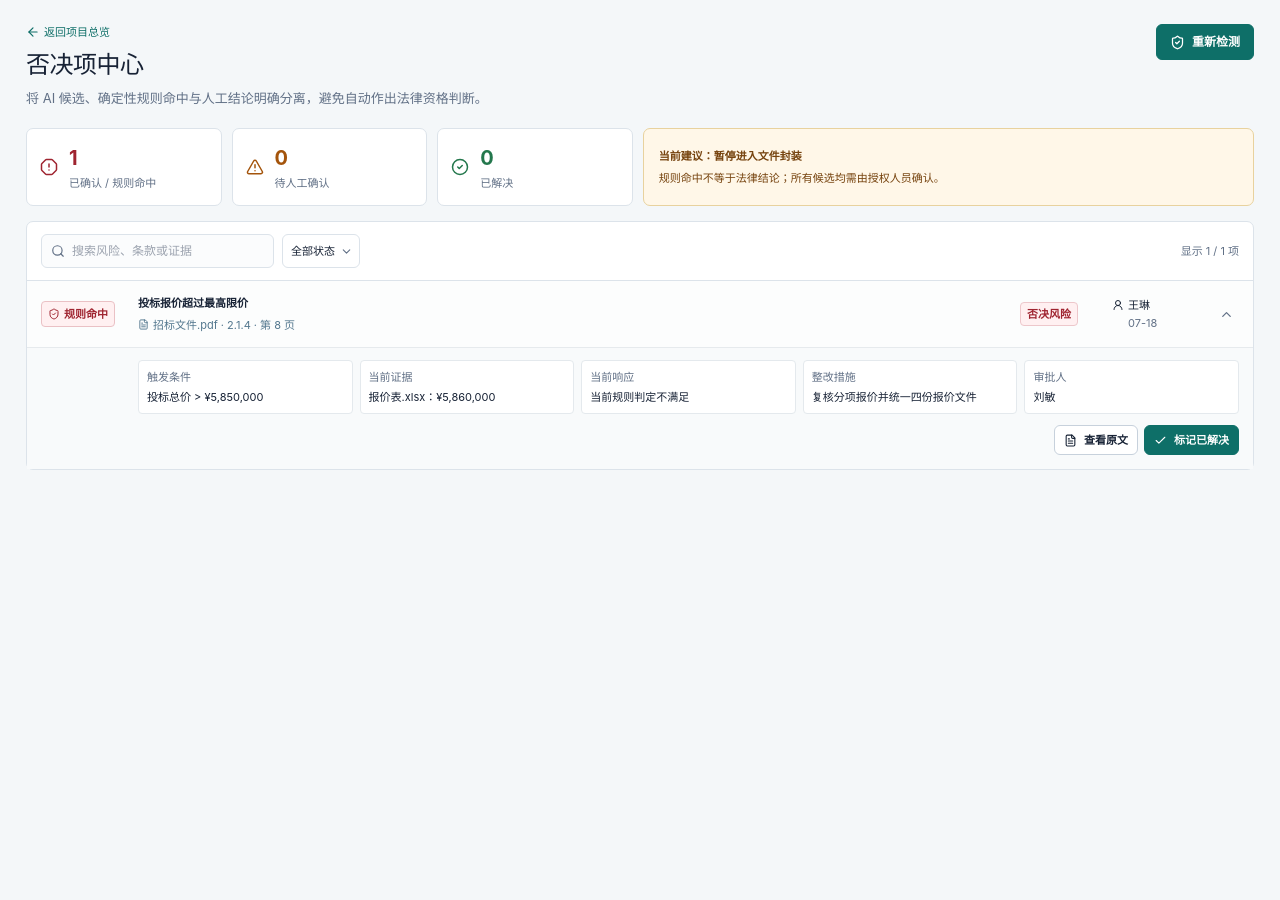
Test case: Phase 3-5 workbenches › requires an audited reason before recording a disqualification decision
The width and height of the screenshot is (1280, 900).
Step 1. Click the button "标记已解决" → click(1192, 440), box [1144,425,1239,455]
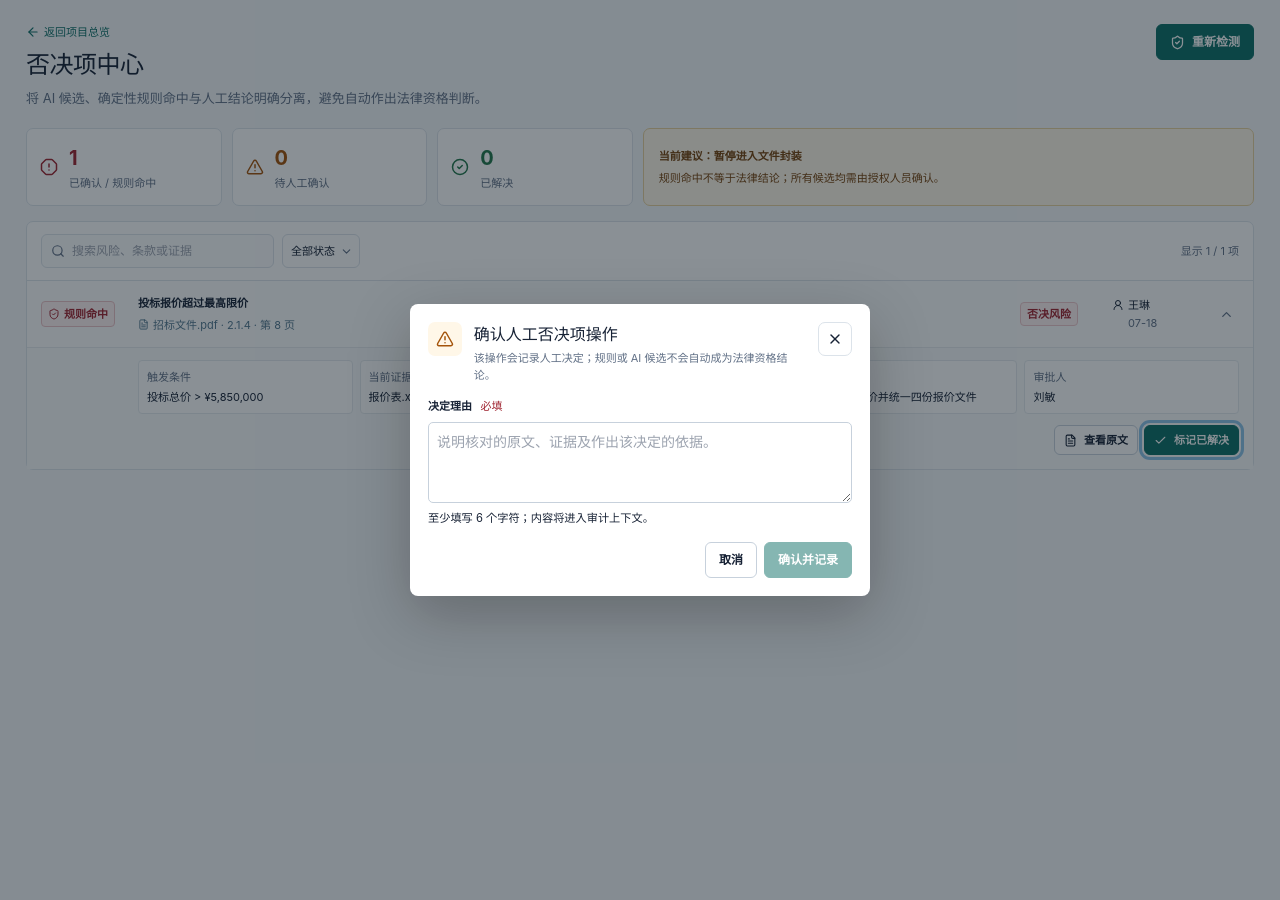
Expected: the button "确认并记录" is disabled, [764,542,852,578]
Step 2. Type "已核对整改材料及招标文件原文" into the text box labelled "决定理由" → (640, 462), box [428,422,852,503]
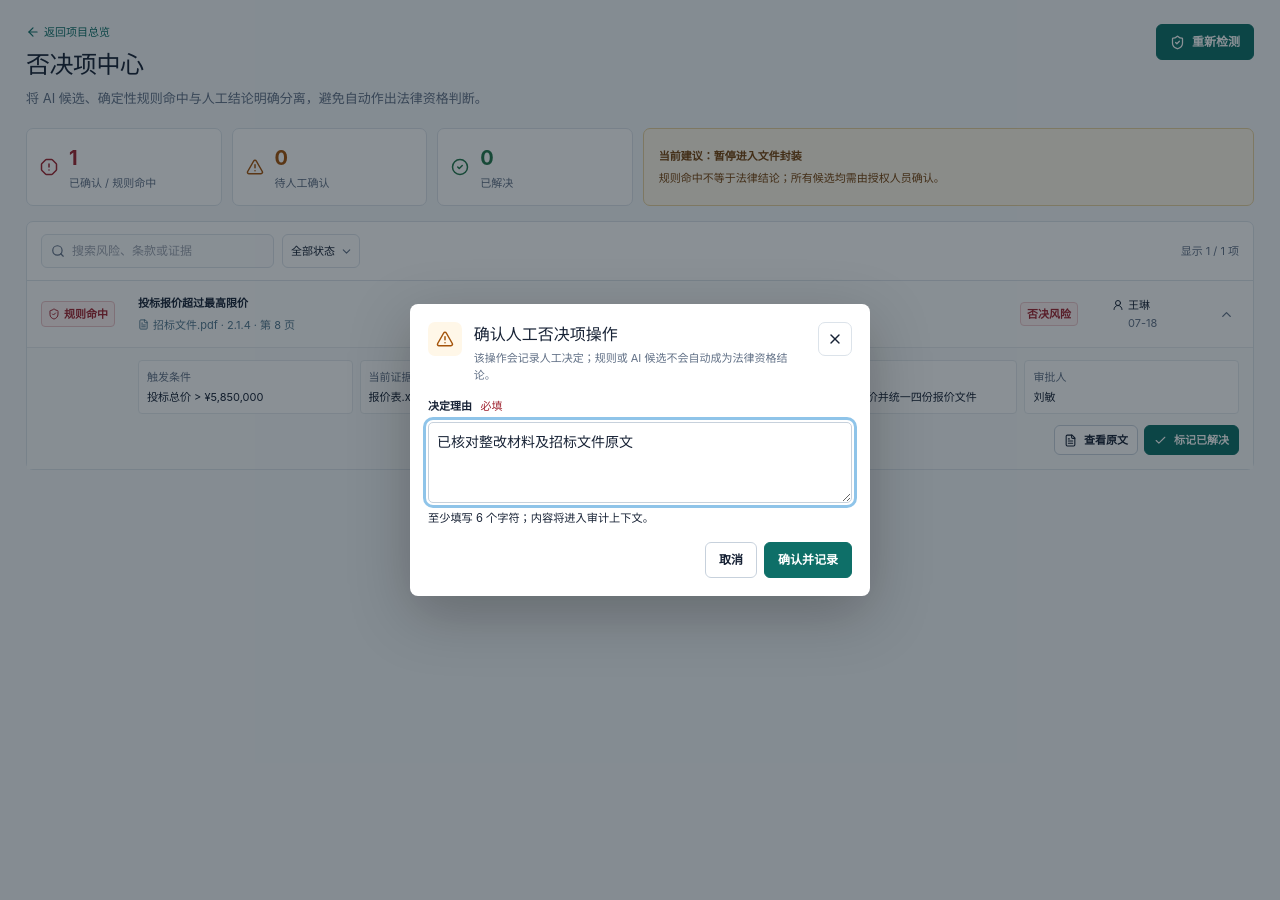
Expected: the button "确认并记录" is enabled
Step 3. Click the button "确认并记录" → click(808, 560), box [764,542,852,578]
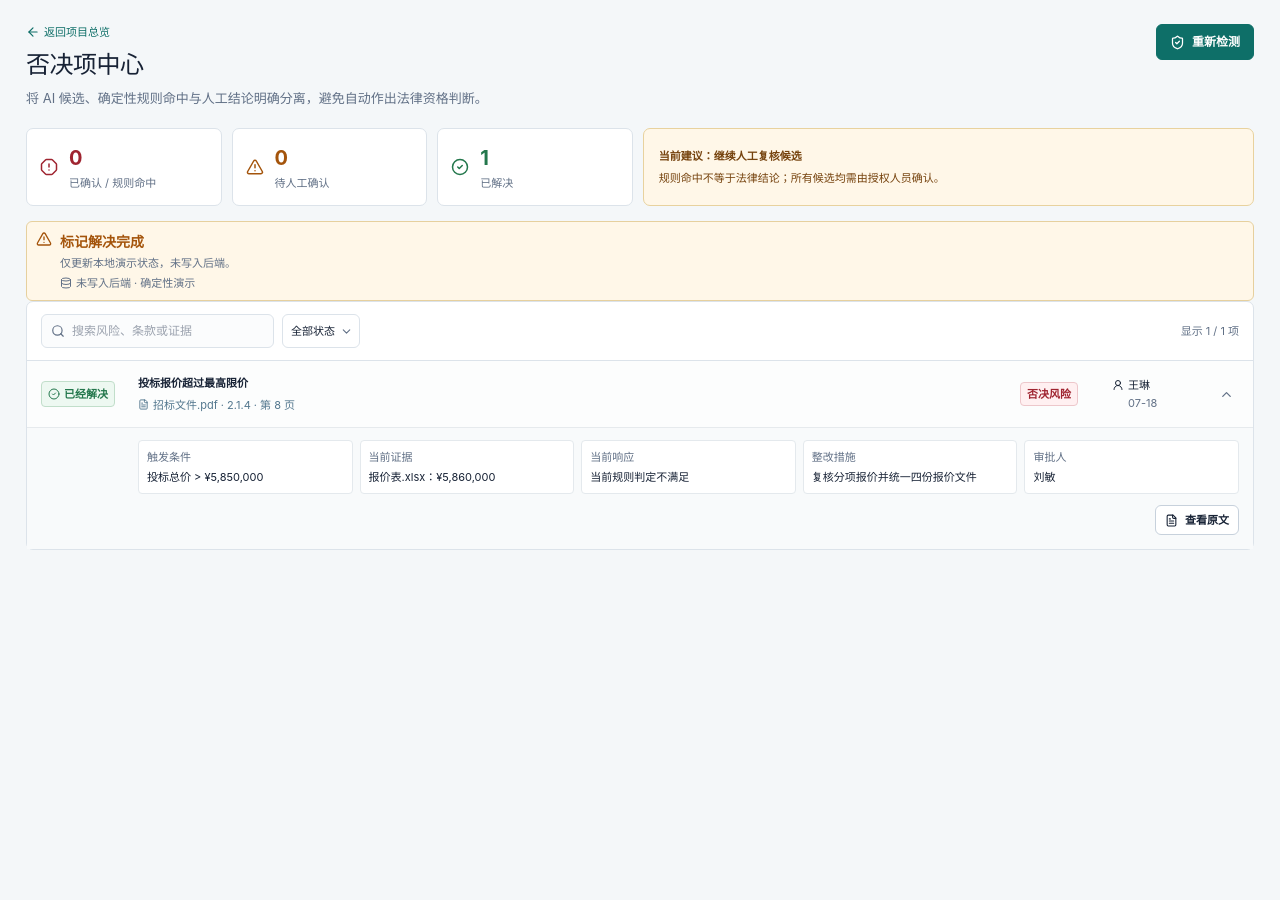
Expected: the button "已经解决 投标报价超过最高限价 招标文件.pdf · 2.1.4 · 第 8 页 否决风险 王琳 07-18" is shown, [27,361,1253,427]
